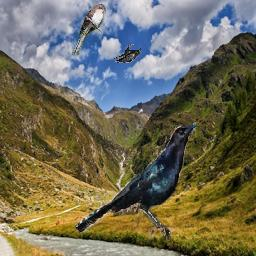Crow: (76, 124, 197, 241), (113, 45, 141, 64)
Cuckoo: (72, 5, 106, 56)
